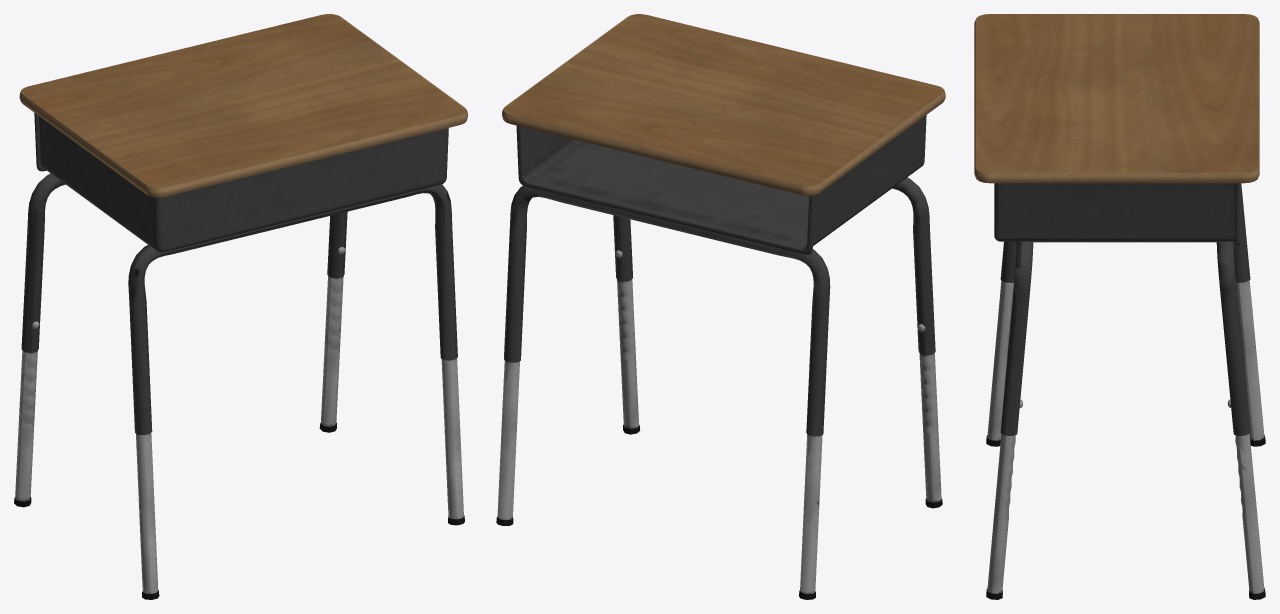
File: desk_school.glb
3 views of the same model, side by side, from view 1: azimuth 30°, elevation 25°; view 2: azimuth 150°, elevation 25°; view 3: azimuth 270°, elevation 25° (orthographic). The views are drawn at different scales.
Visible parts, largest first — view 1: mesh; view 2: mesh; view 3: mesh.
Boxes of the visible parts, left/top/right/bottom form: mesh: left=14, top=14, right=467, bottom=599; mesh: left=496, top=14, right=945, bottom=599; mesh: left=974, top=14, right=1265, bottom=599.
Size of the model in its own units: 0.7117 by 0.8826 by 0.546.
1 material, 1 textured.
